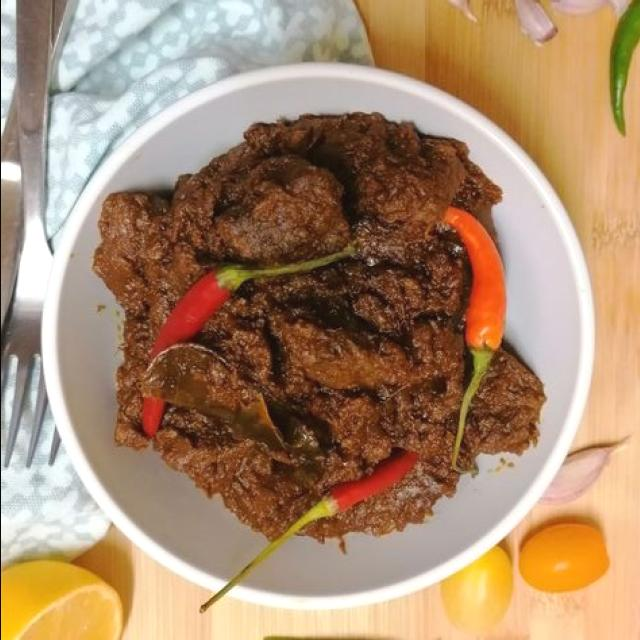rendang: (84, 111, 545, 550)
